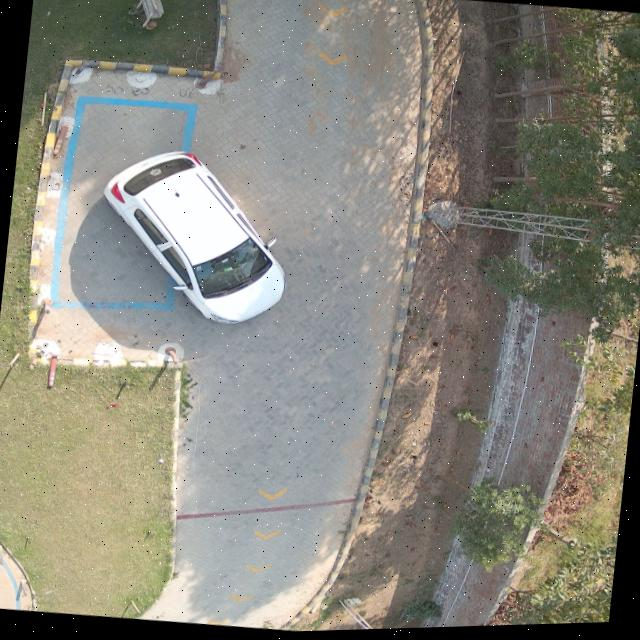car: (102, 151, 283, 324)
